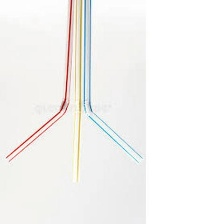drinking_straw: (1, 0, 73, 165), (82, 0, 146, 168), (69, 0, 85, 187)
